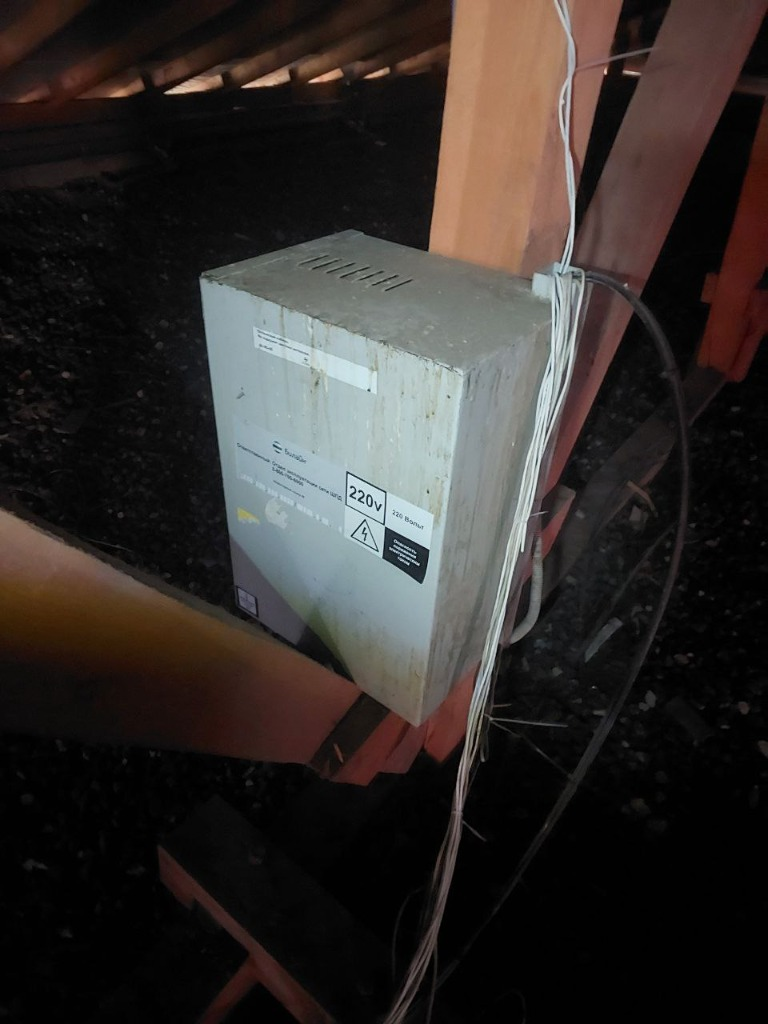sv-5: (196, 220, 600, 734)
